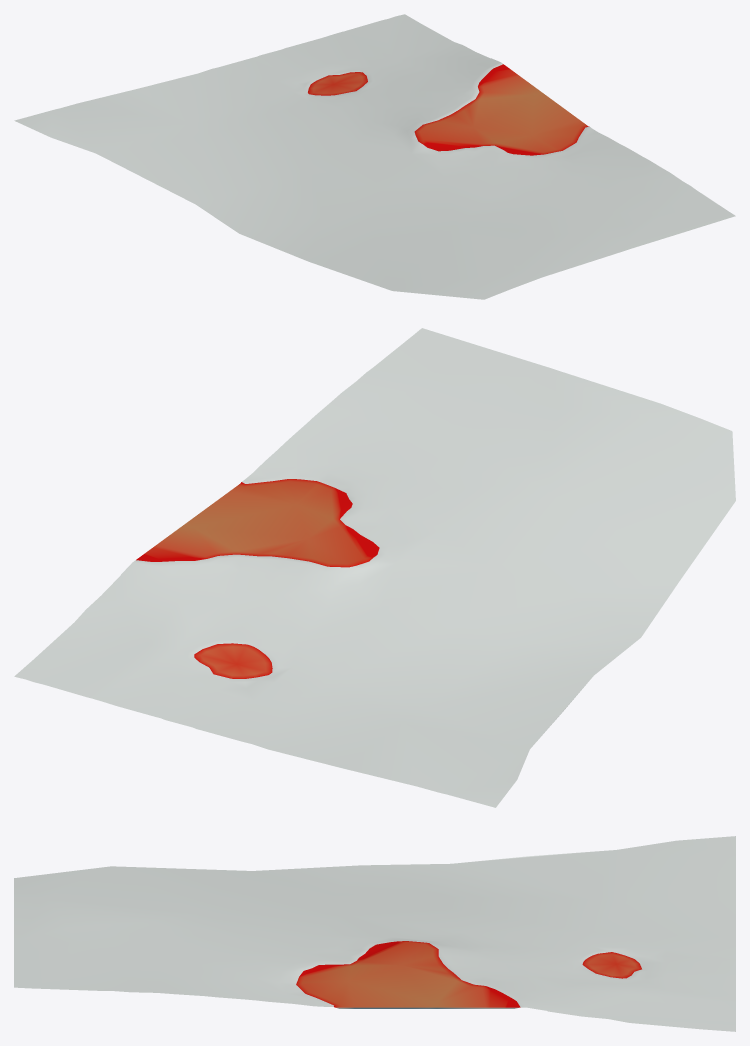
3 views of the same model, one above another, from view 1: azimuth 30°, elevation 25°; view 2: azimuth 150°, elevation 25°; view 3: azimuth 270°, elevation 25° (orthographic). The views are drawn at different scales.
Visible parts, largest first — view 1: G:\FFXIV-MapTools\exports\r2f1\bg\ex1\01_roc_r2\fld\r2f1\bgp (×2); view 2: G:\FFXIV-MapTools\exports\r2f1\bg\ex1\01_roc_r2\fld\r2f1\bgp (×2); view 3: G:\FFXIV-MapTools\exports\r2f1\bg\ex1\01_roc_r2\fld\r2f1\bgp (×3).
Part boxes in pixels (<box>): G:\FFXIV-MapTools\exports\r2f1\bg\ex1\01_roc_r2\fld\r2f1\bgp (×2): <box>14,14,735,299</box>; G:\FFXIV-MapTools\exports\r2f1\bg\ex1\01_roc_r2\fld\r2f1\bgp (×2): <box>14,328,735,807</box>; G:\FFXIV-MapTools\exports\r2f1\bg\ex1\01_roc_r2\fld\r2f1\bgp (×3): <box>14,836,735,1031</box>.
Bounding box in the file's own units: 87.23 × 11.12 × 128.
